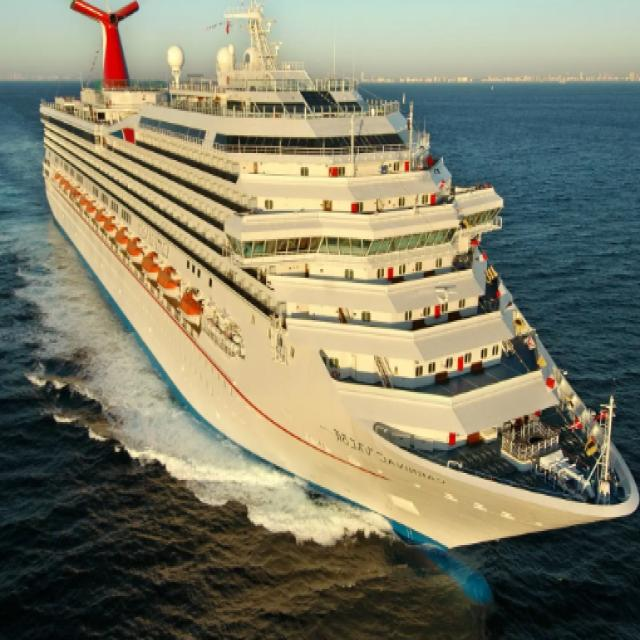passenger ship: (26, 0, 639, 549)
